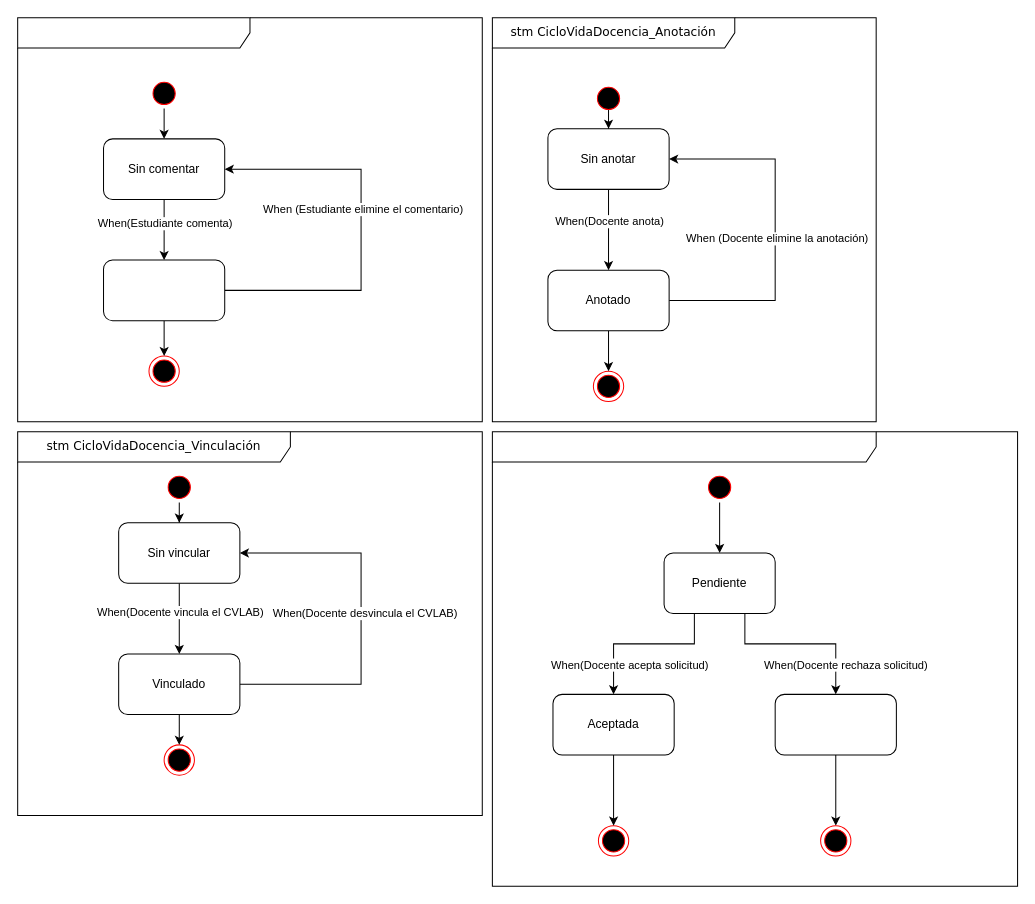
The diagram is 1035 pixels wide and 904 high, and some of its shapes have lost their labels. Here are the shapes that lost their labels. From the top down, the box of each, then its label:
(17, 17, 482, 422): stm CicloVidaDocencia_Comentario
(103, 259, 225, 321): Comentado
(491, 431, 1018, 886): stm CicloVidaDocencia_SolicitudDeCupo
(774, 693, 896, 755): Rechazada
